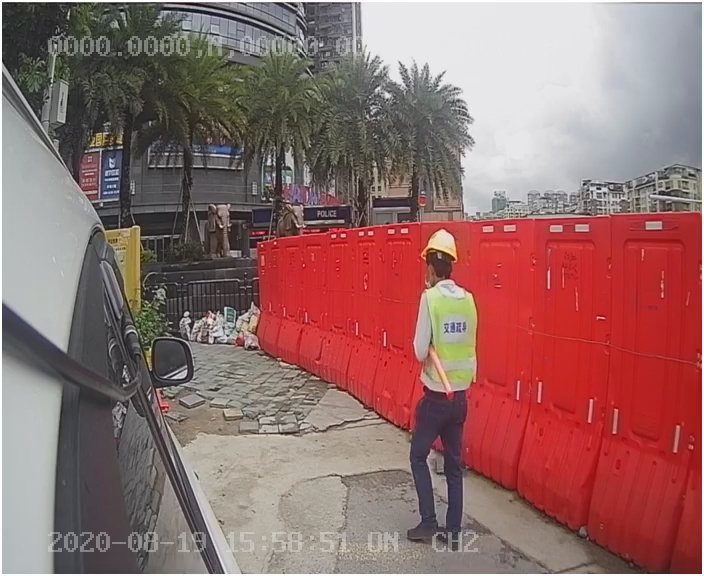person: (392, 227, 496, 530)
